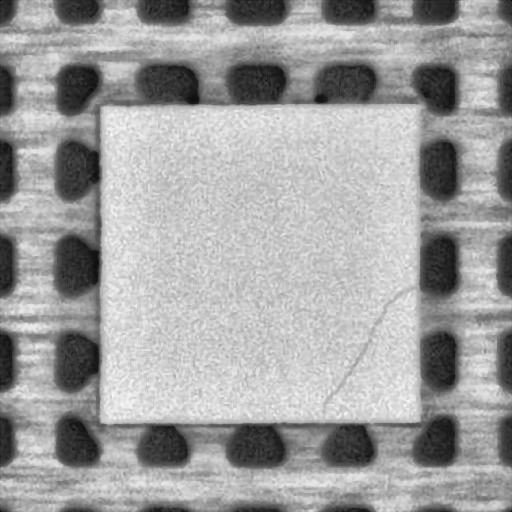DIE_CRACK: (318, 285, 416, 405)
